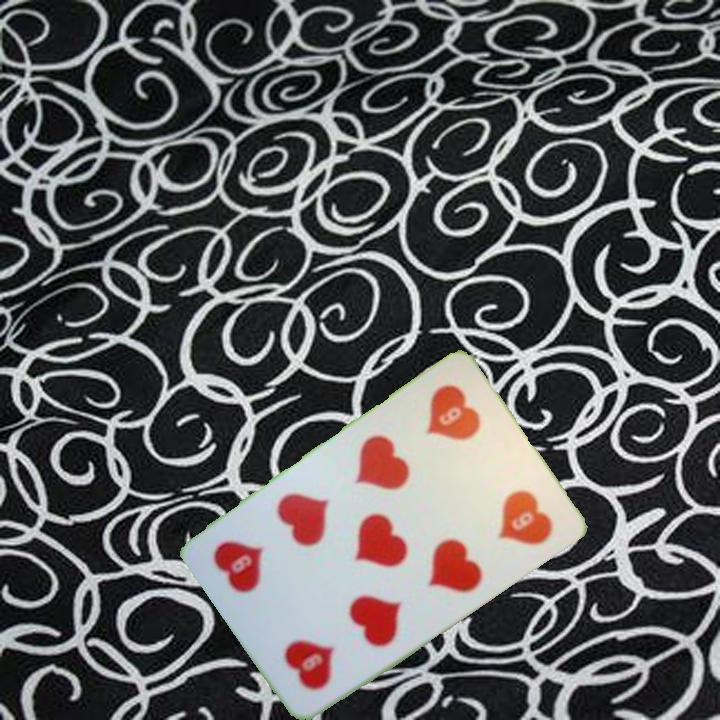h_9.png: (249, 578, 374, 707), (390, 367, 515, 496)
